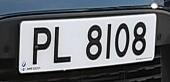0: (113, 20, 131, 60)
1: (103, 19, 114, 63)
8: (85, 21, 104, 64), (130, 18, 148, 60)
L: (52, 22, 76, 69)
P: (30, 21, 53, 71)
